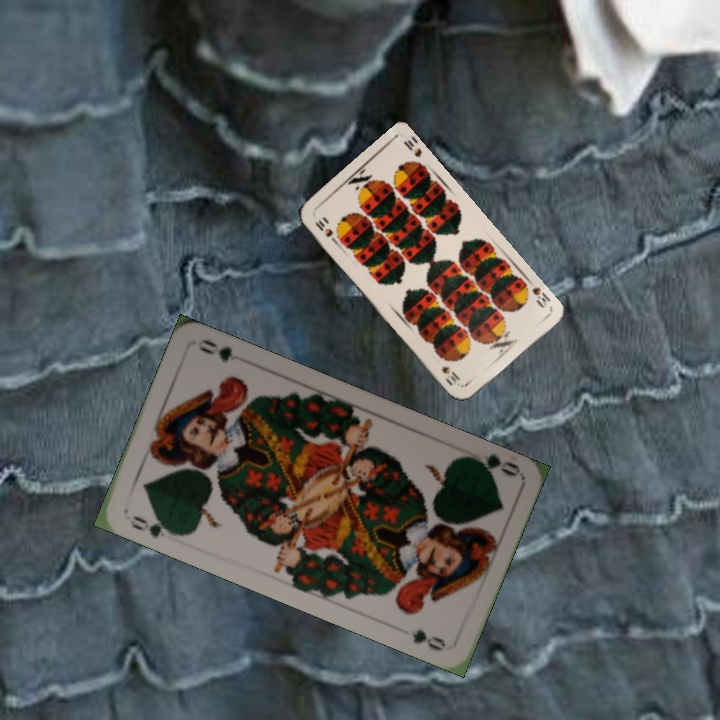GO: (462, 450, 522, 480), (126, 511, 180, 541)
S10: (311, 216, 340, 246), (528, 283, 553, 311)
